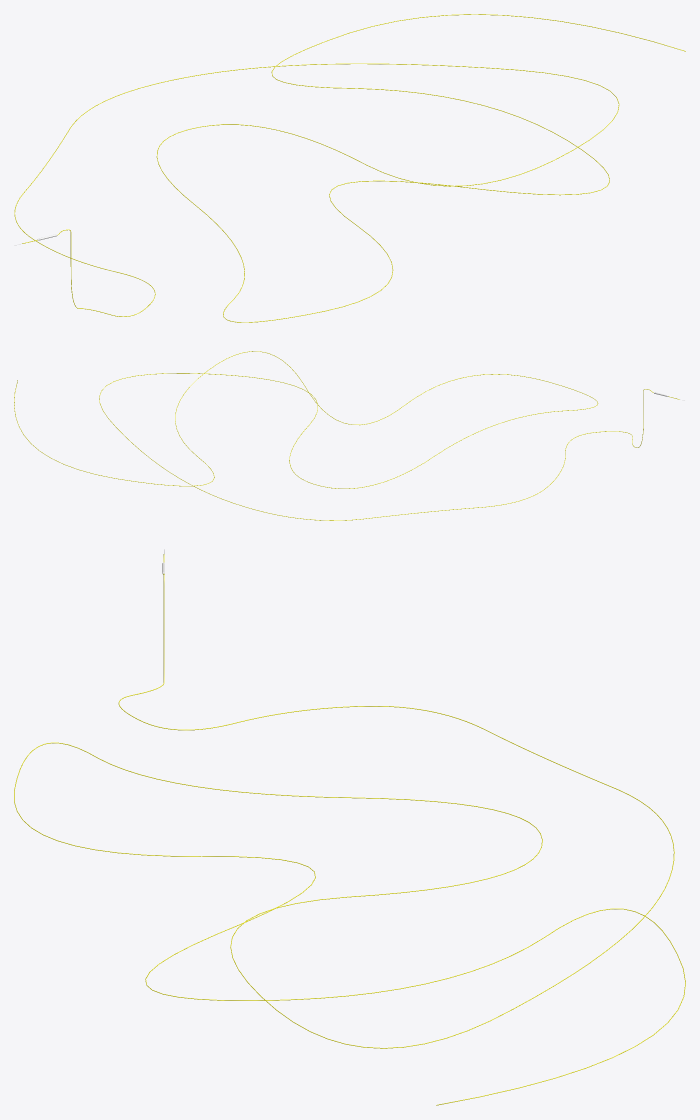
Rendered from kabel dengan sleeve.fbx.
3 views of the same model, one above another, from view 1: azimuth 30°, elevation 25°; view 2: azimuth 150°, elevation 25°; view 3: azimuth 270°, elevation 25° (orthographic). The views are drawn at different scales.
Visible parts, largest first — view 1: kabel dengan sleave; view 2: kabel dengan sleave; view 3: kabel dengan sleave.
Boxes of the visible parts, x1,y1,x2,y2 form: kabel dengan sleave: (14, 14, 685, 322); kabel dengan sleave: (14, 351, 683, 520); kabel dengan sleave: (14, 549, 685, 1105).
Bounding box in the file's own units: 89.79 × 9.17 × 55.47.
2 materials, 2 textured.
